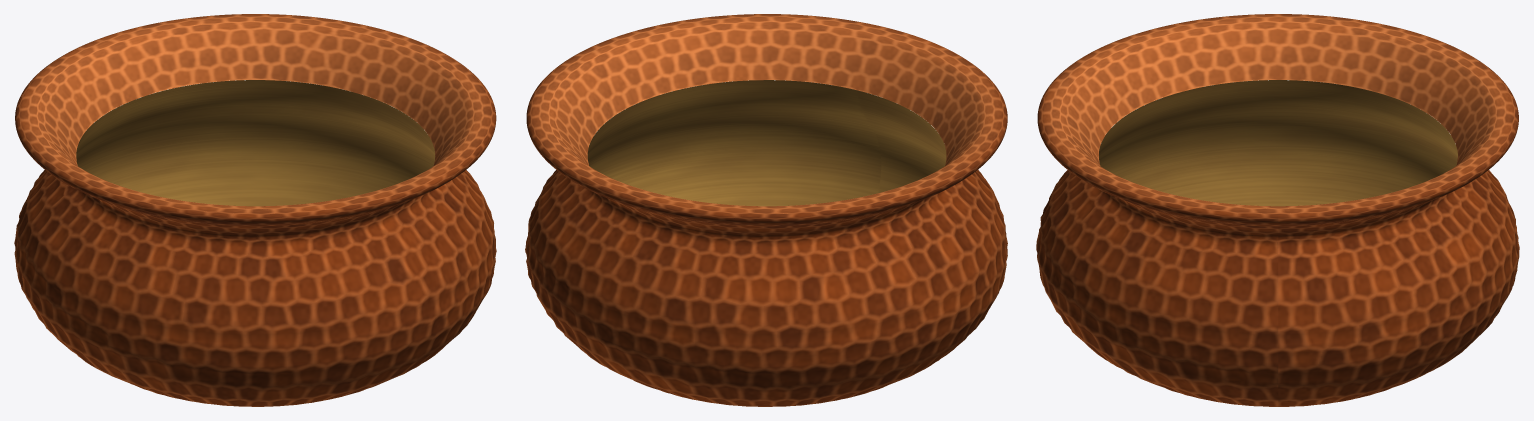
The model's file is copper-handi.glb.
The picture shows the model from 3 angles, left to right: view 1: azimuth 30°, elevation 25°; view 2: azimuth 150°, elevation 25°; view 3: azimuth 270°, elevation 25°; orthographic projection.
Visible parts, largest first — view 1: hammered-copper-vessel, interior-bowl-liner; view 2: hammered-copper-vessel, interior-bowl-liner; view 3: hammered-copper-vessel, interior-bowl-liner.
Boxes of the visible parts, box(x1,y1,x2,y2) form: hammered-copper-vessel: box(14, 14, 496, 406); interior-bowl-liner: box(76, 80, 435, 206); hammered-copper-vessel: box(525, 14, 1007, 406); interior-bowl-liner: box(587, 80, 946, 206); hammered-copper-vessel: box(1036, 14, 1519, 406); interior-bowl-liner: box(1099, 80, 1457, 206).
Size of the model in its own units: 0.288 by 0.1623 by 0.2883.
Materials: 2 (2 with a texture image).
